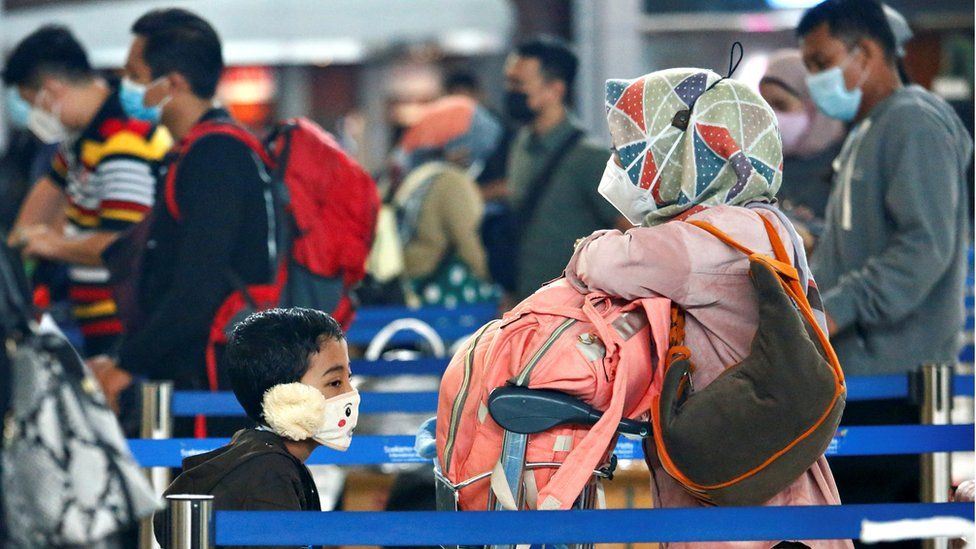with_mask: (594, 126, 666, 234), (800, 28, 875, 130), (116, 35, 190, 123), (296, 353, 361, 452), (756, 87, 817, 163), (17, 86, 81, 147), (500, 60, 554, 127)
